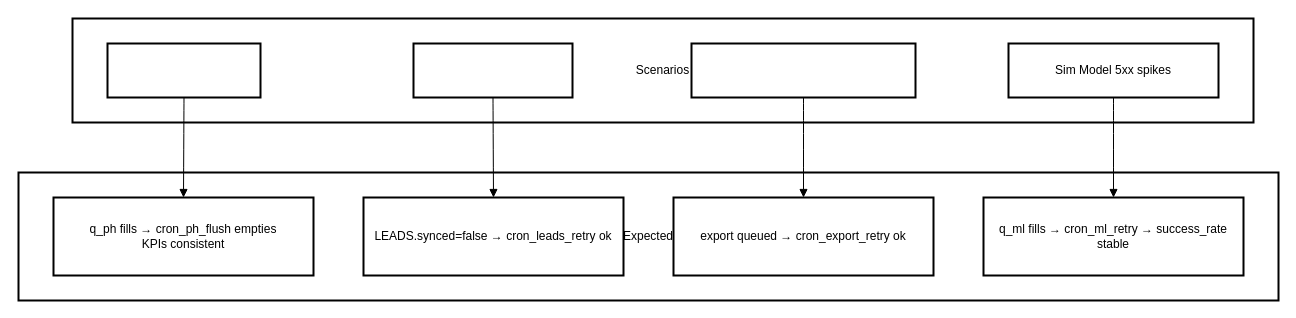
Some shapes in this 1296 by 318 pixel diagram are drawn without their labels. The centre of each missing label's shape, as x and y in pixels:
Sim Email 5xx: the point at 492,70
Sim PH down: the point at 183,70
Sim Storage export fail: the point at 803,70
